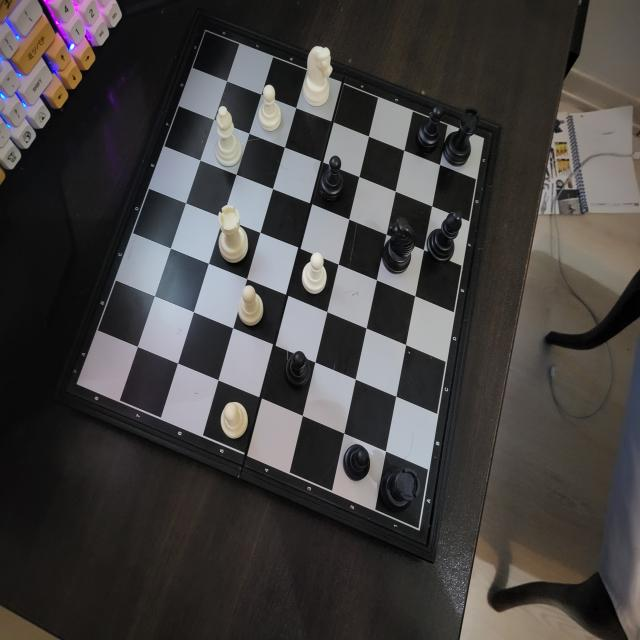black-bishop: (426, 208, 463, 264)
black-knight: (381, 215, 419, 278)
black-pawn: (317, 153, 347, 204), (414, 104, 444, 152), (283, 347, 313, 393), (341, 442, 372, 483)
black-rook: (442, 107, 483, 167), (381, 466, 422, 518)
chess-board: (71, 21, 490, 554)
white-bishop: (213, 104, 243, 168)
white-knight: (302, 45, 334, 110)
white-pawn: (219, 400, 250, 442), (258, 83, 284, 133), (238, 282, 264, 331), (301, 251, 327, 295)
white-rook: (218, 203, 249, 264)
